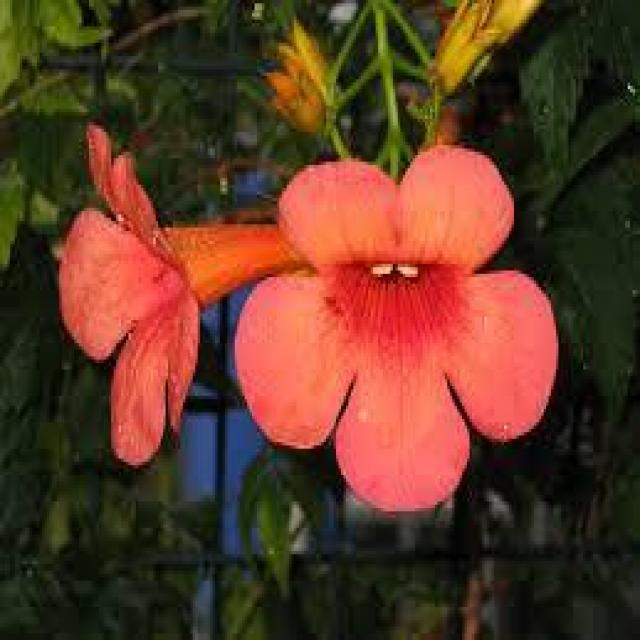organic waste: (245, 147, 561, 503), (67, 125, 230, 482)
